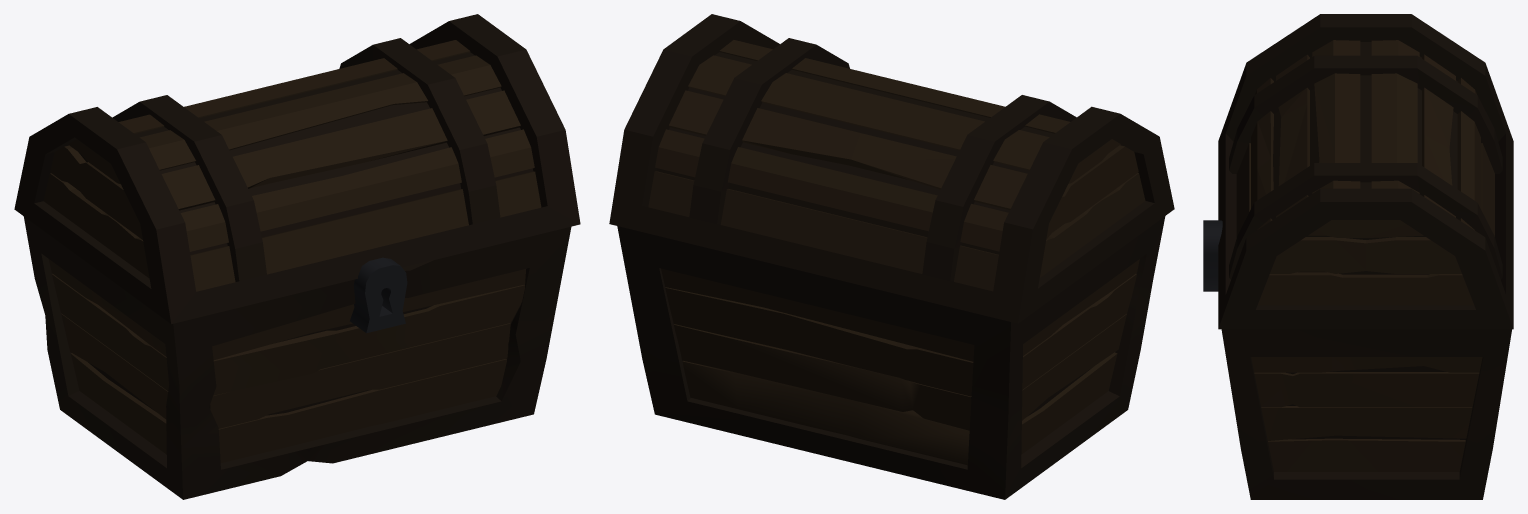
Rendered from Chest_Gold.obj.
3 views of the same model, side by side, from view 1: azimuth 30°, elevation 25°; view 2: azimuth 150°, elevation 25°; view 3: azimuth 270°, elevation 25° (orthographic). The views are drawn at different scales.
Parts seen in each view (by area): view 1: Chest_Gold_Top_Cylinder.001, Chest_Gold_Base_Cube.001; view 2: Chest_Gold_Top_Cylinder.001, Chest_Gold_Base_Cube.001; view 3: Chest_Gold_Top_Cylinder.001, Chest_Gold_Base_Cube.001.
Boxes of the visible parts, <box> form: Chest_Gold_Top_Cylinder.001: <box>14,14,580,324</box>; Chest_Gold_Base_Cube.001: <box>23,216,571,499</box>; Chest_Gold_Top_Cylinder.001: <box>609,14,1174,323</box>; Chest_Gold_Base_Cube.001: <box>617,216,1165,499</box>; Chest_Gold_Top_Cylinder.001: <box>1218,14,1513,329</box>; Chest_Gold_Base_Cube.001: <box>1203,220,1511,499</box>.
Size of the model in its own units: 1.18 by 0.9107 by 0.8223.
